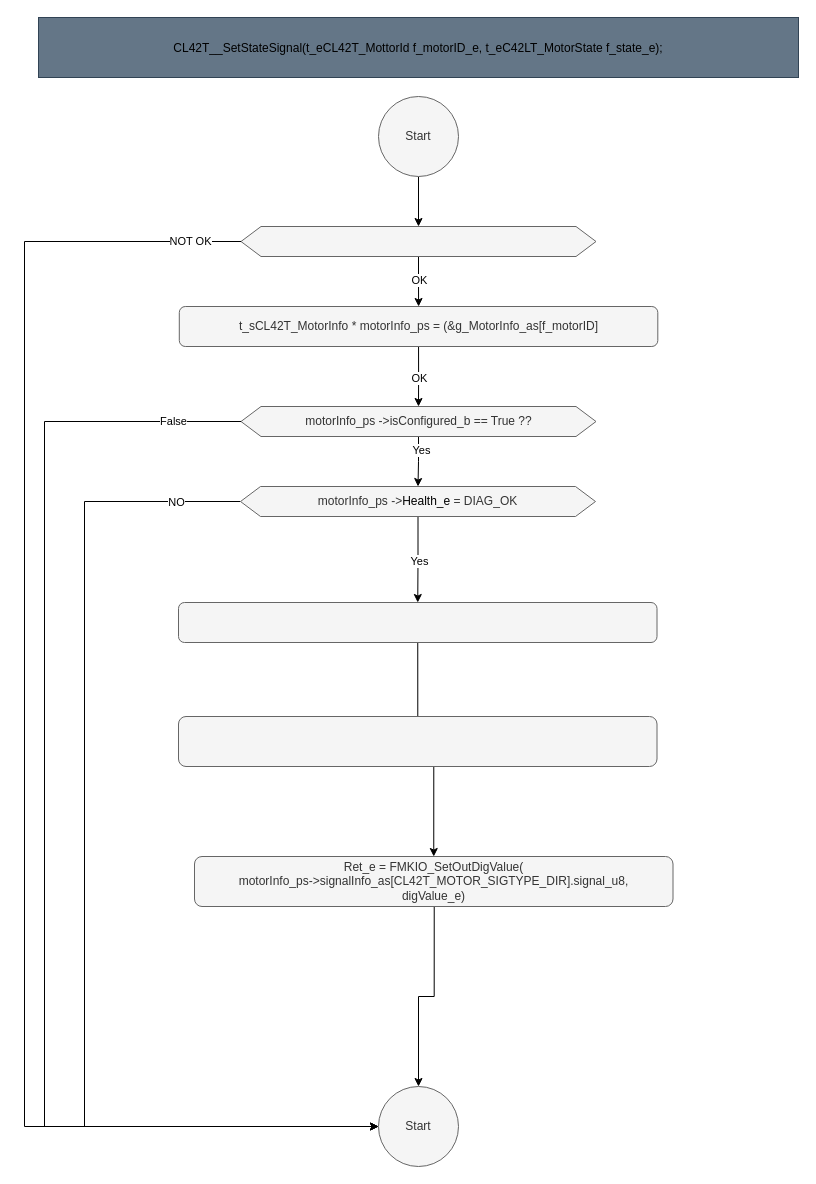
Image size: 816x1184. Some labels were removed from this diagram. Each missing label, with the box of its shape:
motorInfo_ps->SignalIngo_as[CL42T_MOTOR_SIGTYPE_PULSE].value_u32 = digValue_e: (178, 716, 657, 766)
Ret_e = s_CL42T_GetDigValueFromState(f_state_e, &digValue_e): (178, 602, 657, 642)
verif argument: (240, 226, 596, 256)
